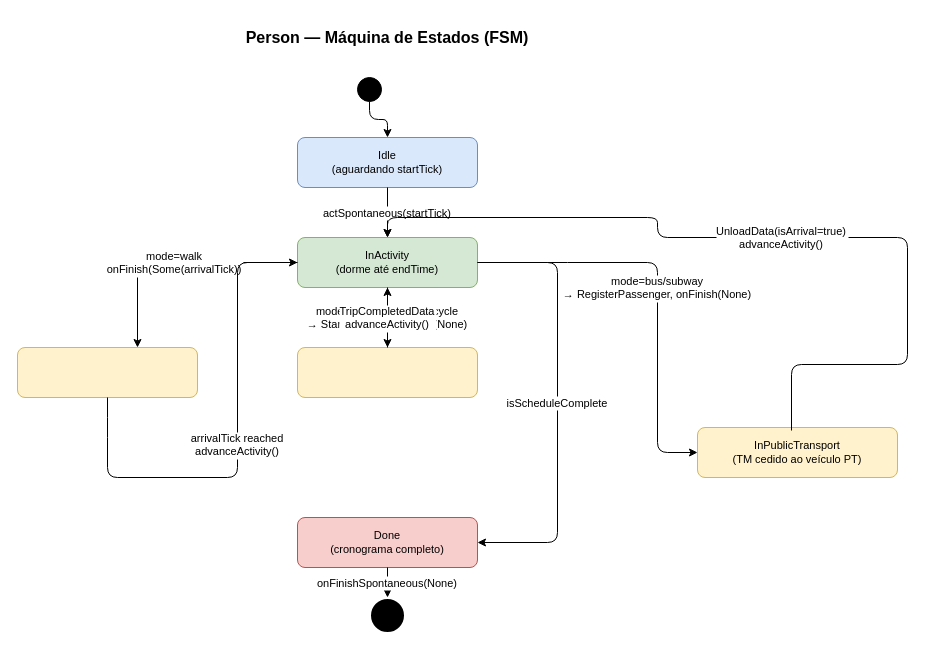
Image size: 933x652. Some labels were removed from this diagram. Each missing label, with the centre of its shape:
InVehicle (TM cedido ao veículo): [387,372]
Walking (dorme até arrivalTick): [107,372]
